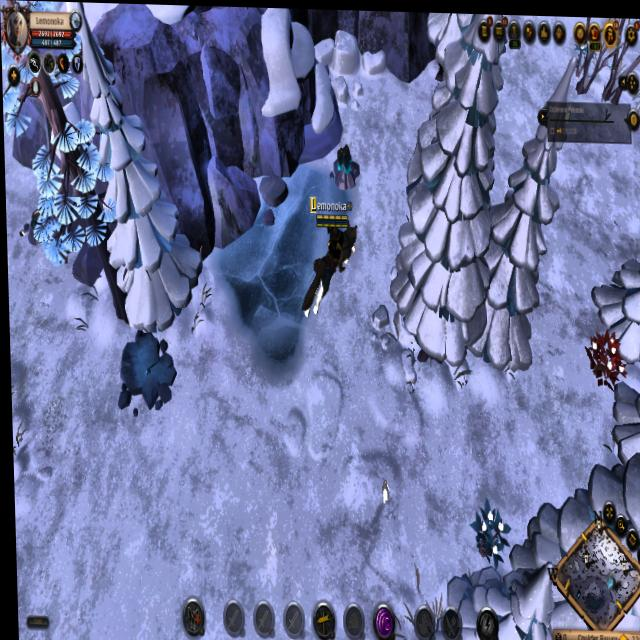fiber tier 4: (467, 492, 509, 567)
fiber tier 5: (583, 322, 627, 393)
ore tier 4: (330, 137, 360, 191)
